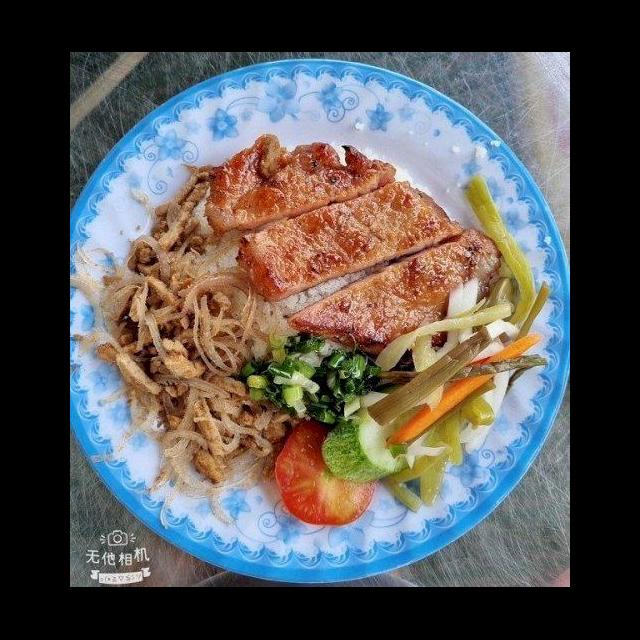bi: (71, 228, 299, 528)
dua chua: (355, 274, 557, 516)
suon: (200, 128, 503, 370)
